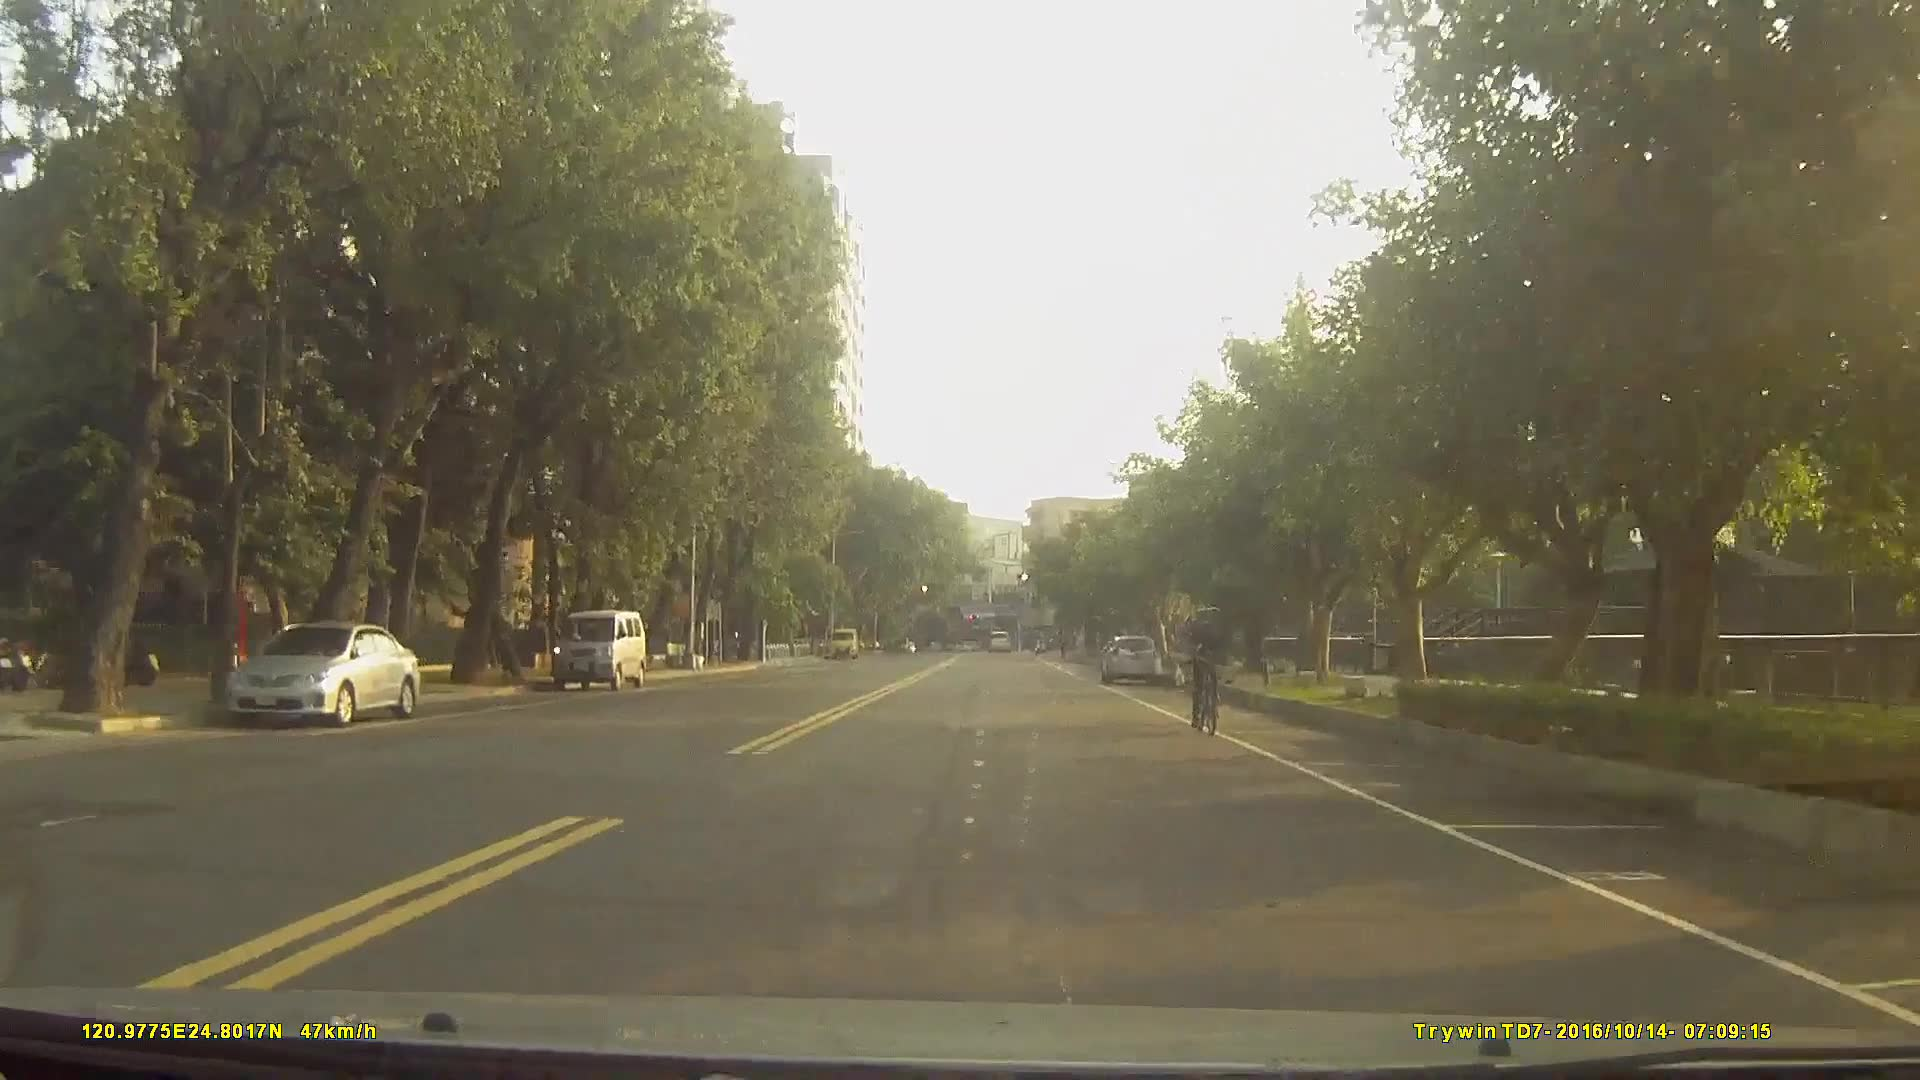rider: (1189, 602, 1229, 732)
vehicle: (223, 621, 423, 732), (552, 607, 649, 691), (1099, 636, 1165, 691), (985, 626, 1011, 653)
